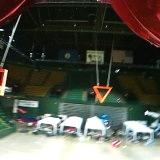Orange_Triangle_Gshape: (93, 86, 112, 103)
